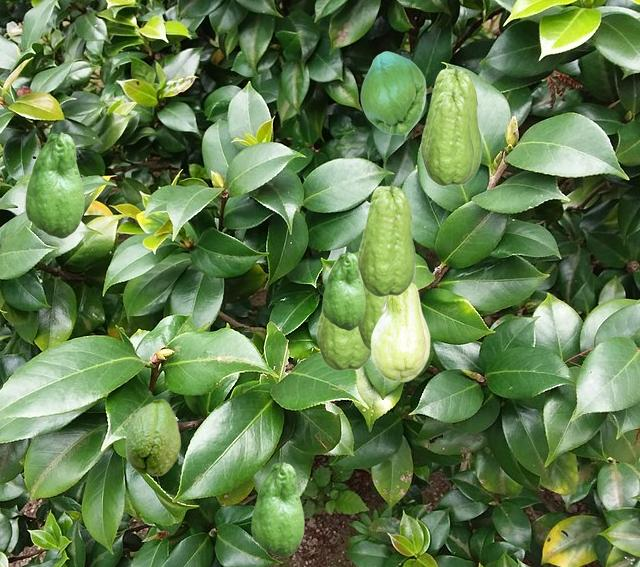sayote: (420, 68, 481, 185), (357, 185, 415, 296), (25, 132, 83, 237), (316, 261, 370, 370), (370, 283, 429, 381), (360, 51, 425, 134), (357, 267, 416, 350), (251, 462, 303, 556), (424, 91, 473, 185), (125, 398, 180, 475), (322, 252, 364, 329)
